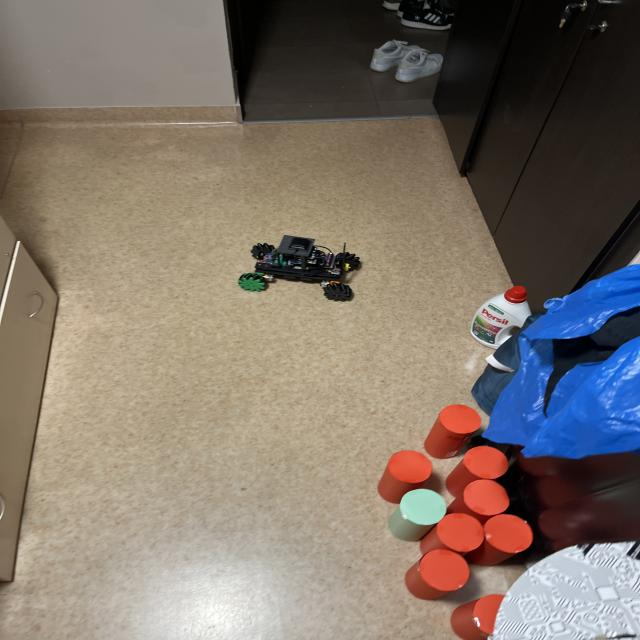robot: (238, 236, 361, 301)
